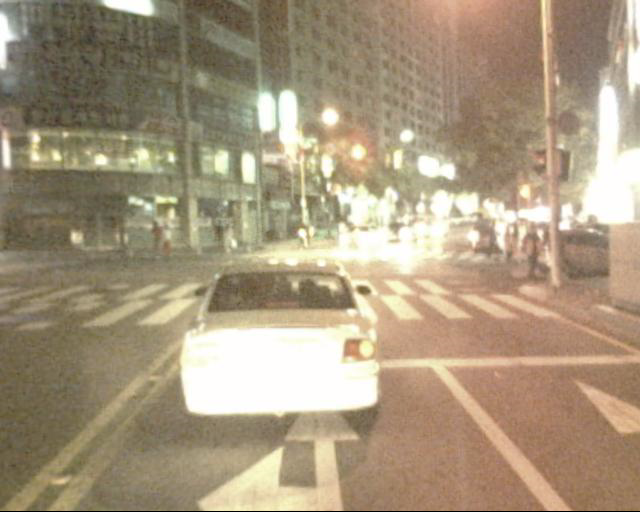person: (205, 216, 236, 258), (544, 222, 564, 281), (525, 226, 545, 280), (159, 218, 181, 264), (146, 218, 168, 262), (500, 228, 522, 271), (291, 223, 314, 263), (485, 228, 505, 267)
